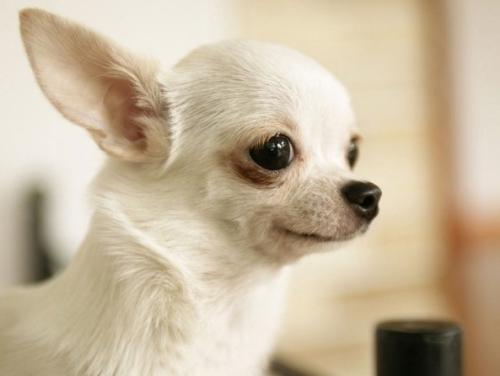dog: (54, 8, 391, 268)
